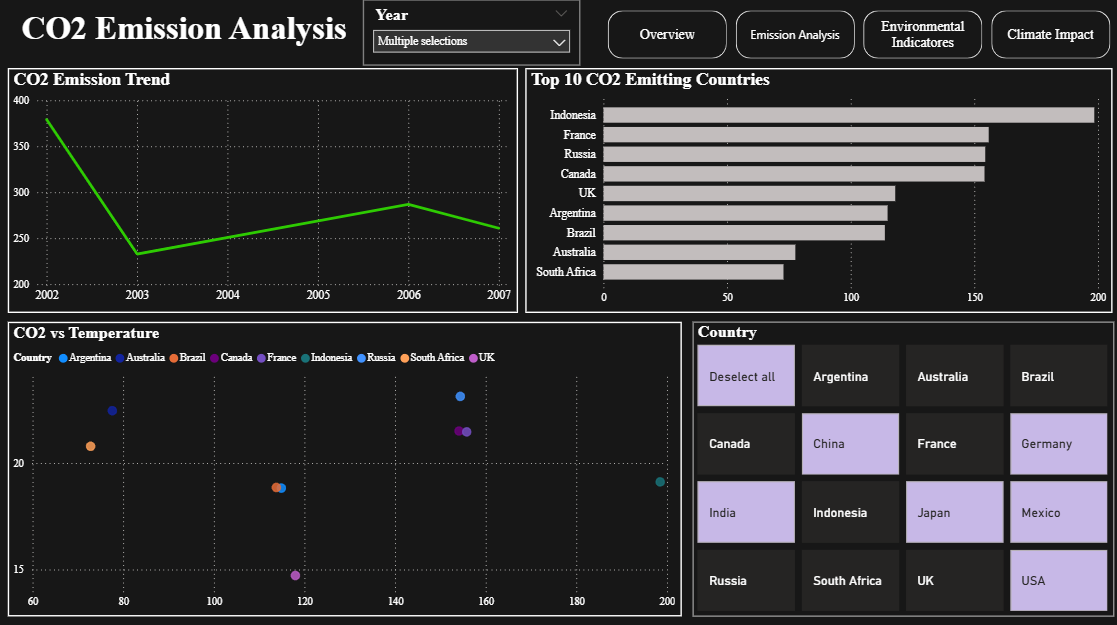

This screenshot's page, from the dashboard's own definition file:
{"tool":"powerbi","page":{"name":"Emission Analysis","canvas":[1280,720],"ordinal":1},"visuals":[{"type":"textbox","box":[10,7.1,402.9,70],"z":0},{"type":"barChart","title":"Top 10 CO2 Emitting Countries","fields":{"Y":["Sum(climate_change_dataset.CO2 Emissions (Tons/Capita))"],"Category":["climate_change_dataset.Country"]},"box":[601.2,79.8,671.2,279.8],"z":1000},{"type":"lineChart","title":"CO2 Emission Trend","fields":{"Category":["climate_change_dataset.Year"],"Y":["Sum(climate_change_dataset.CO2 Emissions (Tons/Capita))"]},"box":[9.8,79.8,582.8,279.8],"z":2000},{"type":"scatterChart","title":"CO2 vs Temperature","fields":{"X":["Sum(climate_change_dataset.CO2 Emissions (Tons/Capita))"],"Y":["climate_change_dataset.Average Temperature"],"Series":["climate_change_dataset.Country"]},"box":[10,370,770,337.1],"z":3000},{"type":"pageNavigator","box":[695.7,14.7,576.7,55.2],"z":4000},{"type":"slicer","fields":{"Values":["climate_change_dataset.Year"]},"box":[415.7,1.4,248.6,75.7],"z":4001},{"type":"advancedSlicerVisual","fields":{"Values":["climate_change_dataset.Country"]},"box":[792.9,370,481.4,337.1],"z":4002}]}

Visuals, with their boxes in screenshot pixels (x1, y1, x2, y2), scaled from the page's 1280x720 canvas onto the 1117x625 screenshot:
textbox: [9, 6, 360, 67]
"Top 10 CO2 Emitting Countries" barChart: [525, 69, 1110, 312]
"CO2 Emission Trend" lineChart: [9, 69, 517, 312]
"CO2 vs Temperature" scatterChart: [9, 321, 681, 614]
pageNavigator: [607, 13, 1110, 61]
slicer - climate_change_dataset.Year: [363, 1, 580, 67]
advancedSlicerVisual - climate_change_dataset.Country: [692, 321, 1112, 614]
